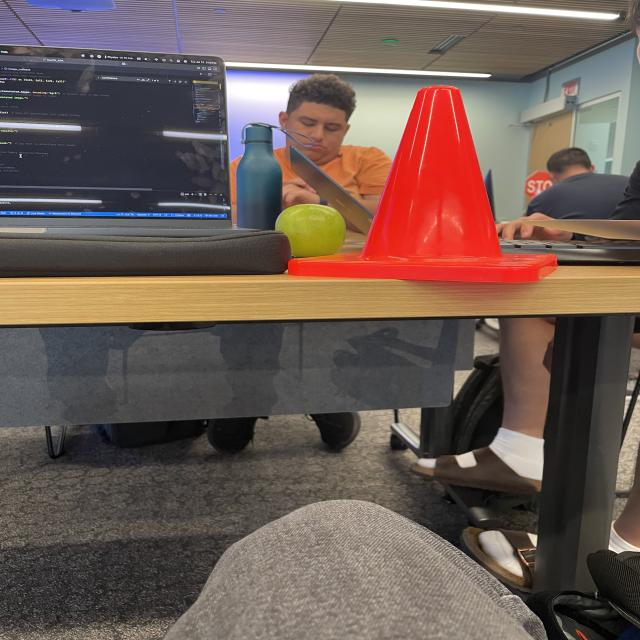Traffic Cone: (288, 87, 560, 285)
